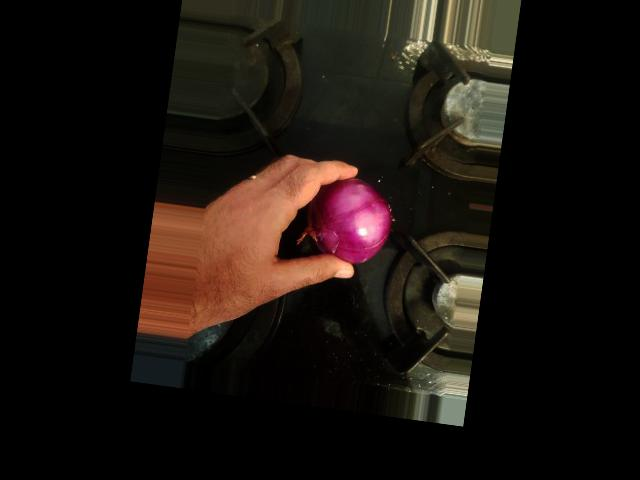onion: (354, 109, 453, 202)
